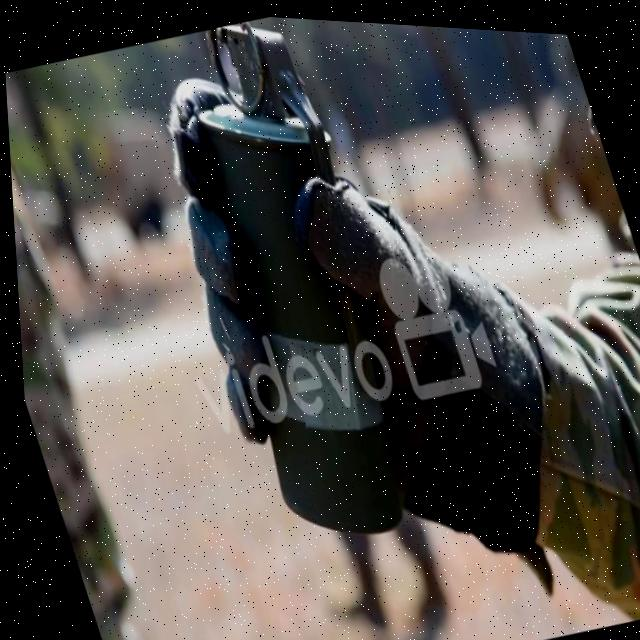grenade: (134, 9, 442, 556)
